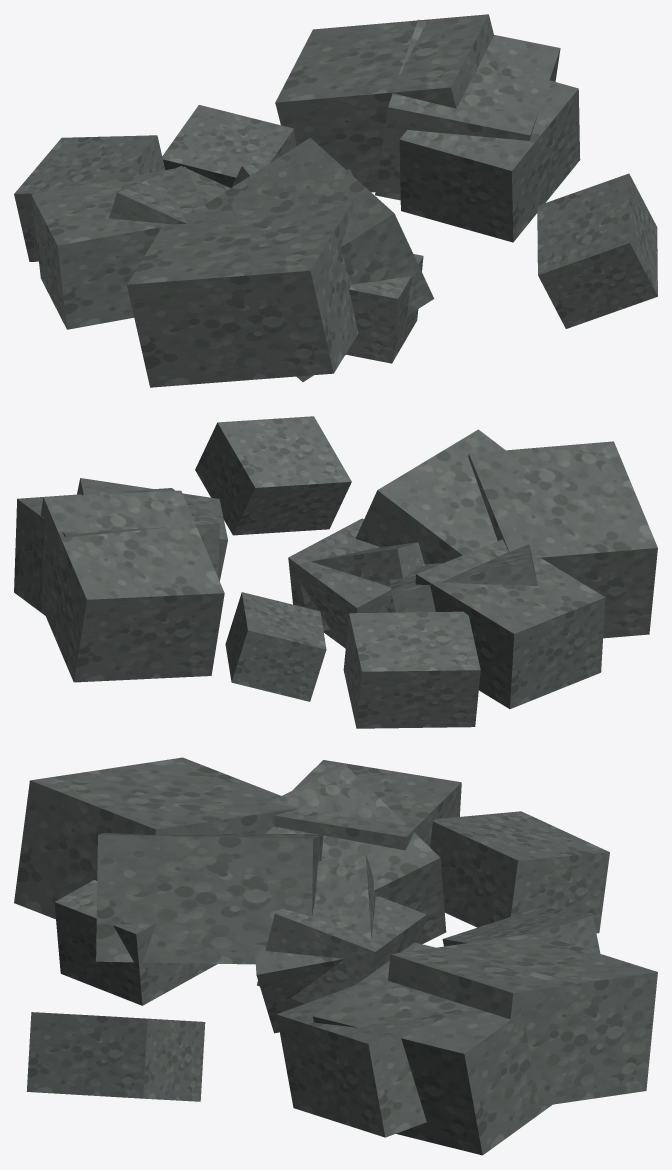
File: pr-010_stone_pile__large.obj
3 renders of one model, top to bottom at view 1: azimuth 30°, elevation 25°; view 2: azimuth 150°, elevation 25°; view 3: azimuth 270°, elevation 25°, orthographic. The views are drawn at different scales.
Visible parts, largest first — view 1: pr-010_stone_pile__large; view 2: pr-010_stone_pile__large; view 3: pr-010_stone_pile__large.
Part boxes in pixels (bbox=[...]): pr-010_stone_pile__large: bbox=[14, 14, 657, 387]; pr-010_stone_pile__large: bbox=[14, 416, 657, 728]; pr-010_stone_pile__large: bbox=[14, 757, 657, 1155].
Bounding box in the file's own units: 1.74 × 0.4619 × 1.54.
Materials: 1 (1 with a texture image).
